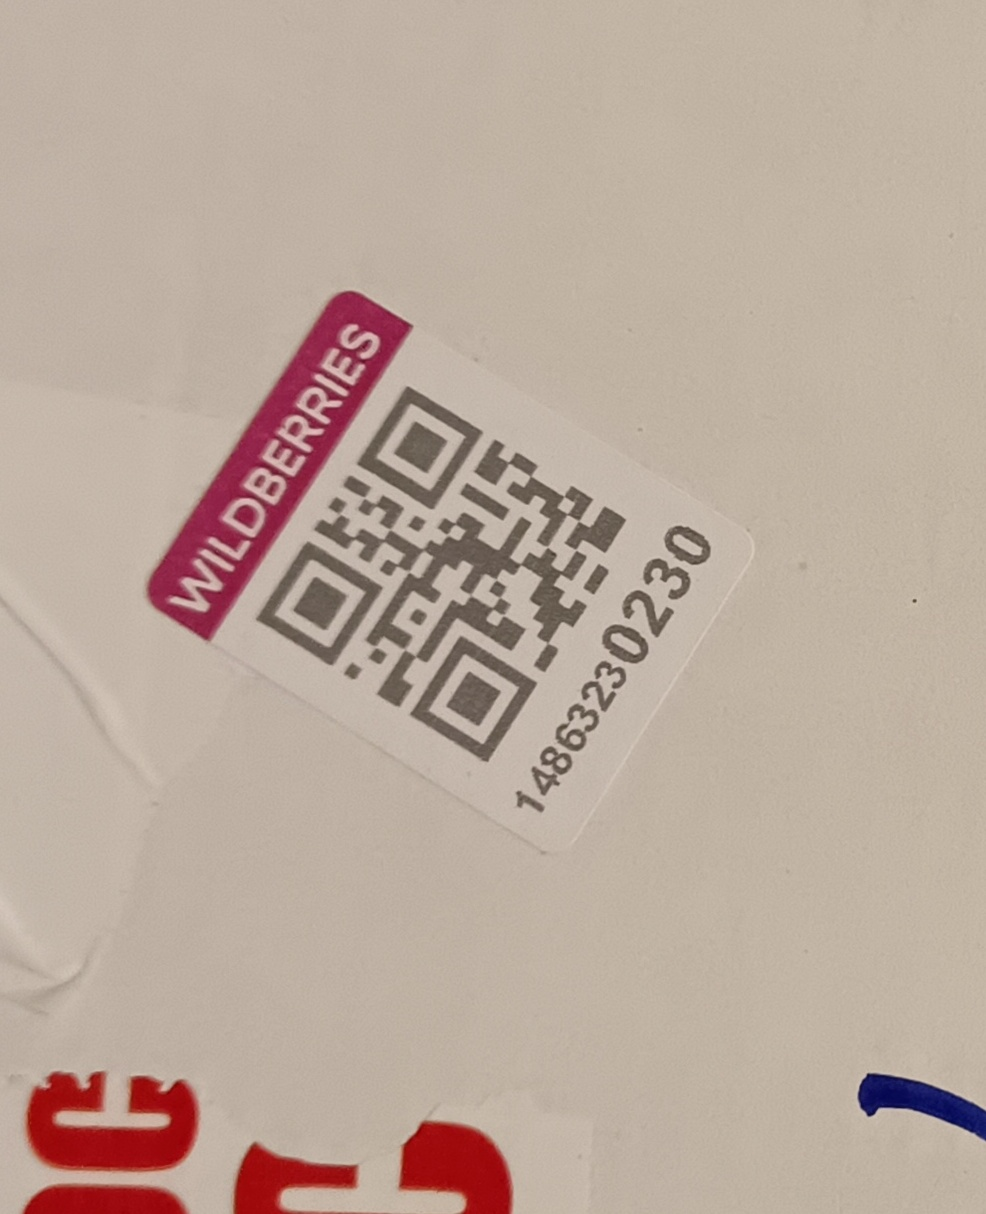2d: (251, 382, 638, 760)
